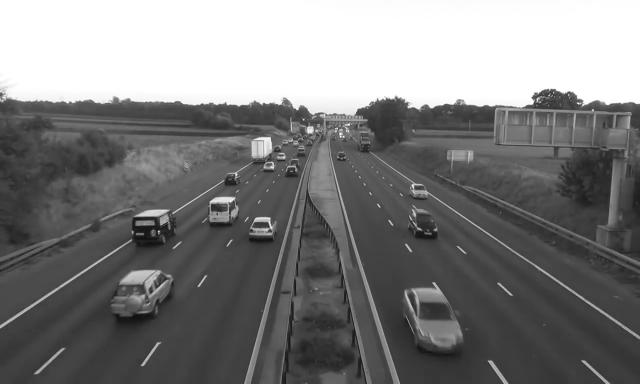caminhaog: (250, 137, 273, 165), (356, 131, 371, 153), (307, 126, 314, 136), (300, 126, 306, 136)
carro: (403, 286, 466, 357), (110, 268, 174, 322), (408, 209, 439, 241), (249, 217, 278, 240), (408, 182, 429, 200), (224, 172, 241, 185), (284, 165, 298, 178), (263, 161, 276, 173), (336, 150, 349, 161), (290, 159, 300, 170), (297, 149, 306, 158), (276, 153, 286, 161), (274, 144, 282, 152), (292, 141, 300, 147), (282, 139, 288, 146), (307, 141, 314, 146), (298, 146, 306, 150), (332, 136, 338, 141), (342, 137, 348, 142), (289, 138, 294, 144), (298, 138, 304, 142), (293, 136, 298, 140)
van: (130, 208, 178, 248), (207, 196, 240, 228)
